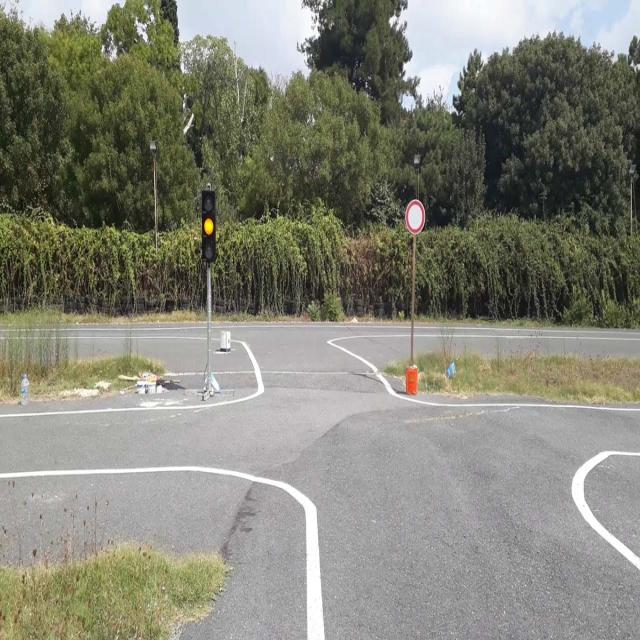sari: (202, 190, 216, 262)
